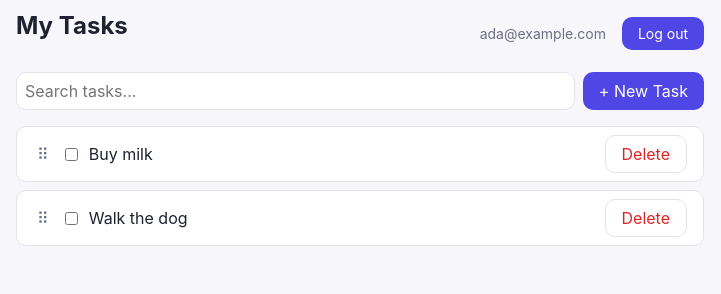
TaskListPage › shows an error and leaves the checkbox unchanged when toggling fails
Expected: the link "Buy milk" is shown, x1=89 y1=144 x2=153 y2=164
Click the checkbox named "Mark Buy milk as complete".
click(71, 154)  # box x1=65 y1=148 x2=78 y2=160
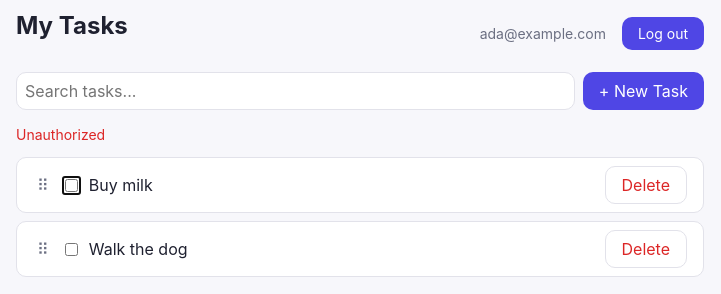
Expected: the checkbox named "Mark Buy milk as complete" is not checked, x1=65 y1=178 x2=78 y2=192
Now the message reads "Unauthorized", box x1=16 y1=126 x2=105 y2=143
